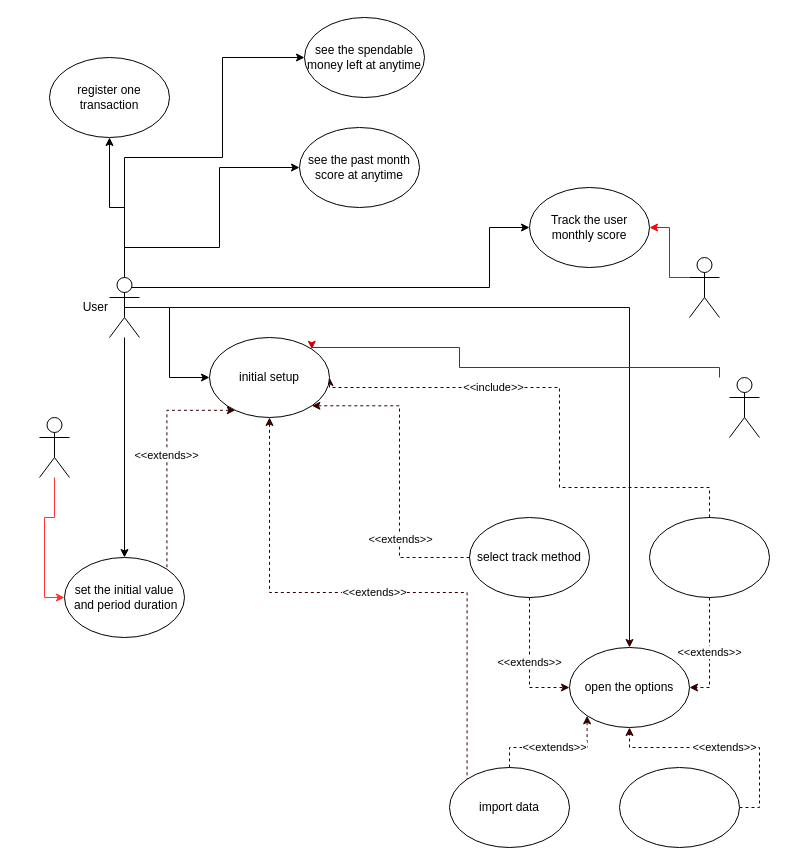
Some shapes in this 790 by 865 pixel diagram are drawn without their labels. Each missing label, with the centre of its shape:
<<event>> End of period: point (704, 287)
<<event>> First Entry: point (744, 407)
<<event>> Start of period: point (54, 447)
clear data: point (709, 557)
export data: point (679, 807)
